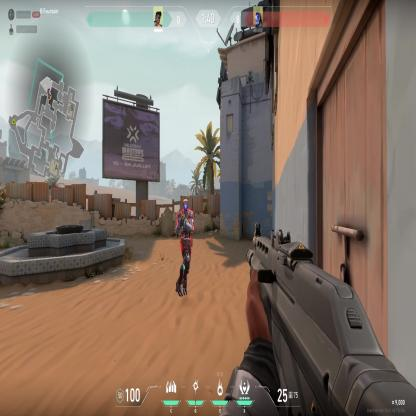enemy: (173, 196, 195, 298)
